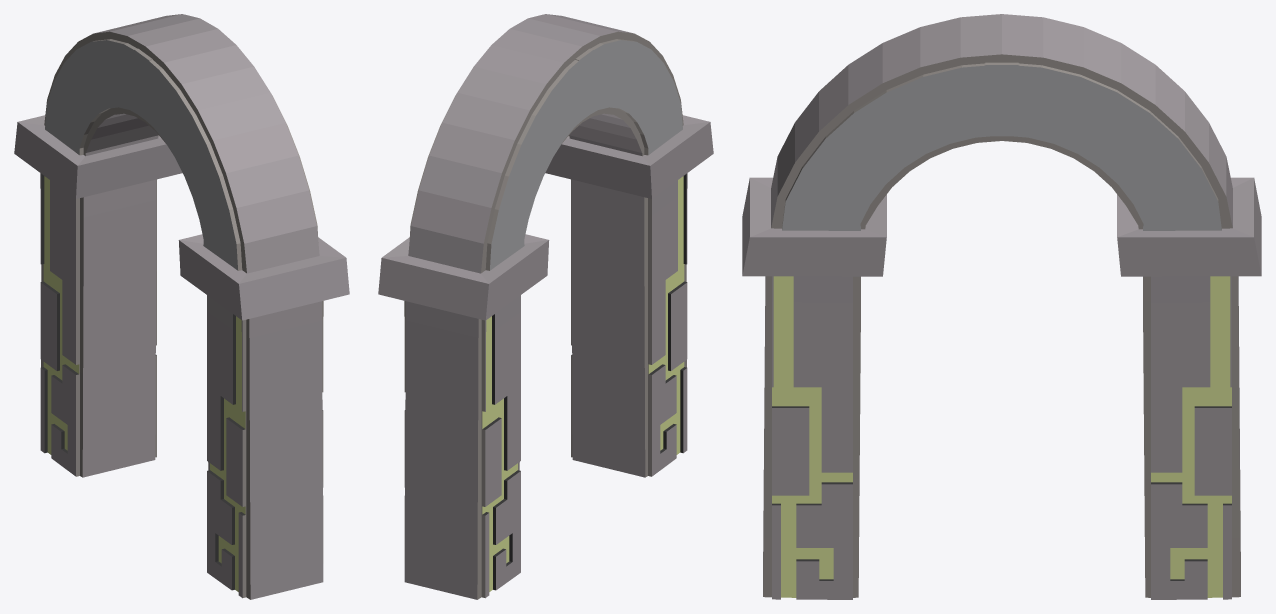
Rendered from GATE01.fbx.
The picture shows the model from 3 angles, left to right: view 1: azimuth 30°, elevation 25°; view 2: azimuth 150°, elevation 25°; view 3: azimuth 270°, elevation 25°; orthographic projection. The views are drawn at different scales.
Parts seen in each view (by area): view 1: 円; view 2: 円; view 3: 円.
Part boxes in pixels (left/top/right/bottom): 円: left=14, top=14, right=349, bottom=599; 円: left=378, top=14, right=713, bottom=599; 円: left=742, top=14, right=1261, bottom=599.
Size of the model in its own units: 3325 by 14104 by 12215.
